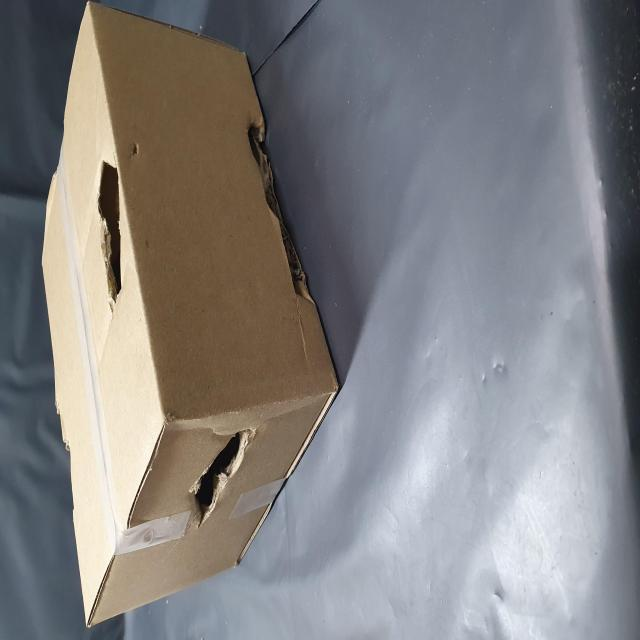damaged: (186, 434, 299, 551), (61, 327, 123, 444), (185, 164, 276, 229)
